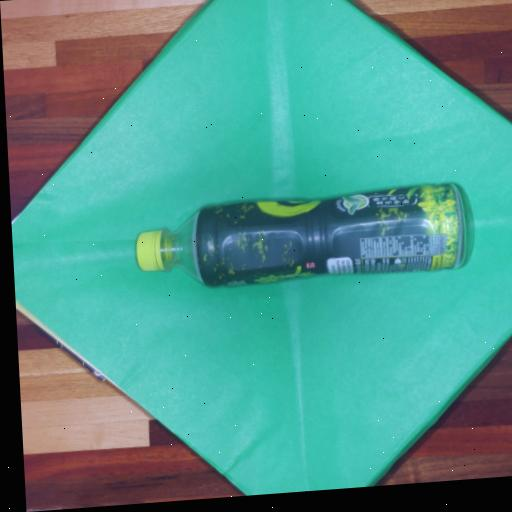bottle: (136, 183, 463, 285)
